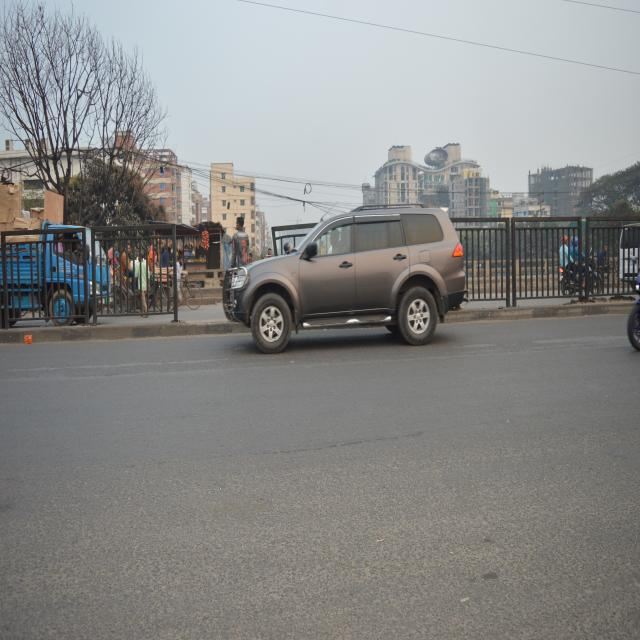car: (221, 204, 478, 354)
microbus: (614, 219, 640, 294)
motorbike: (557, 246, 602, 304)
pickup-van: (0, 215, 109, 348)
